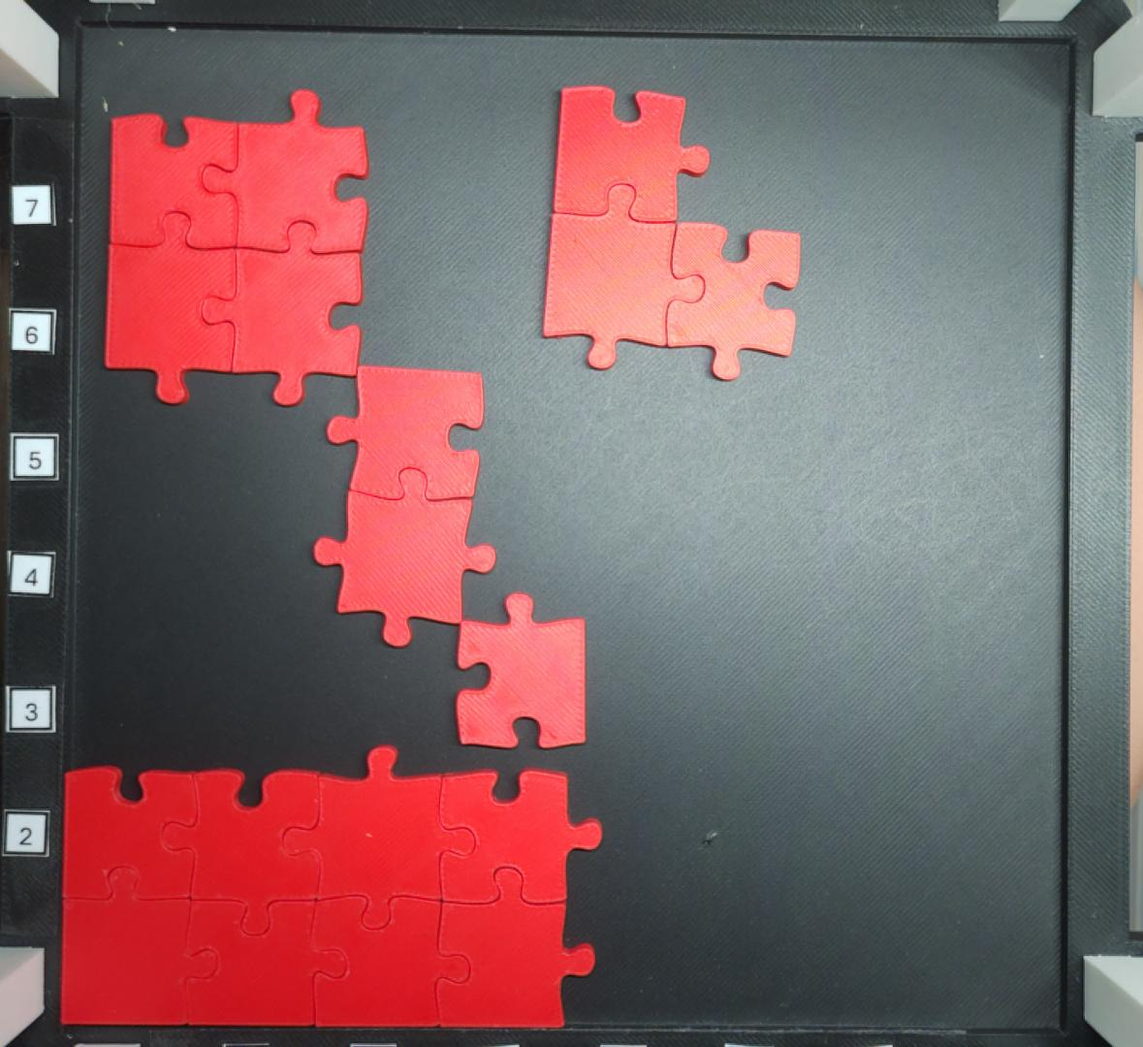p_1: (452, 590, 588, 751)
p_2: (312, 365, 500, 646)
p_3: (544, 84, 804, 383)
p_4: (104, 88, 370, 406)
p_m: (59, 746, 603, 1029)
